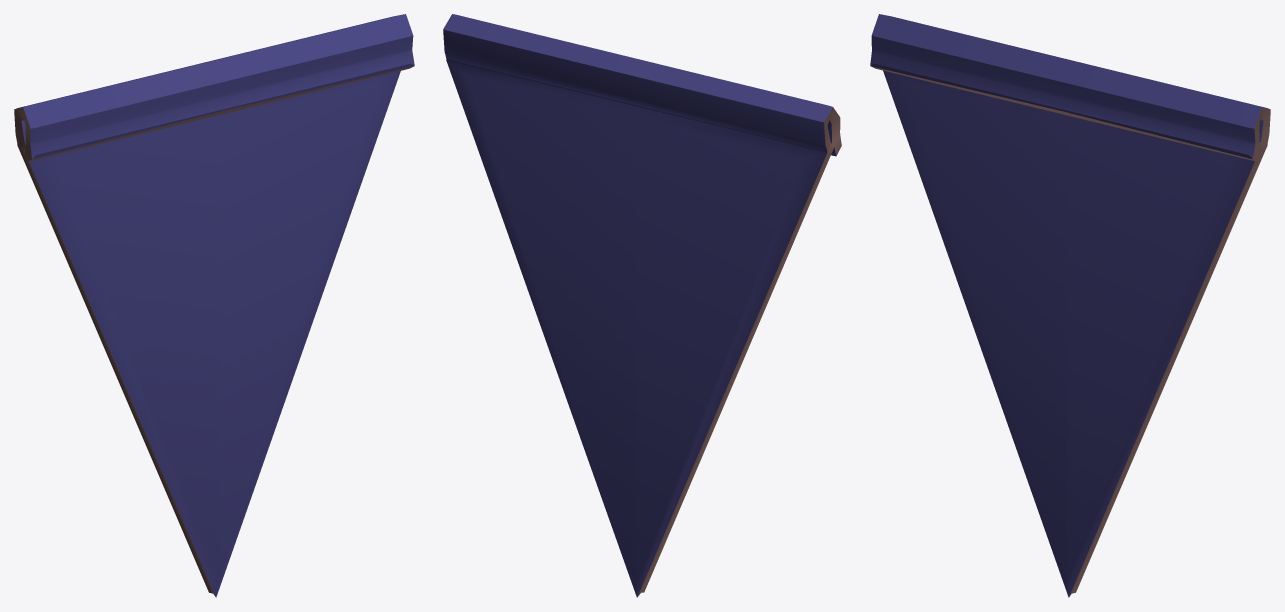
Rendered from banderitatrangular.fbx.
3 views of the same model, side by side, from view 1: azimuth 30°, elevation 25°; view 2: azimuth 150°, elevation 25°; view 3: azimuth 330°, elevation 25° (orthographic).
Visible parts, largest first — view 1: Box001; view 2: Box001; view 3: Box001.
Part boxes in pixels (x1=…): Box001: x1=14, y1=14, x2=414, y2=597; Box001: x1=443, y1=14, x2=841, y2=597; Box001: x1=870, y1=14, x2=1270, y2=597.
Bounding box in the file's own units: 10.7 × 14.32 × 0.8904.
